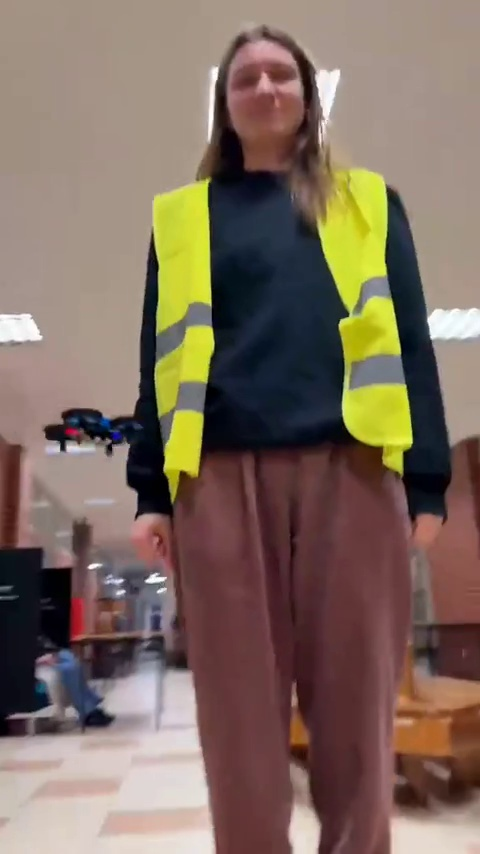drone: (38, 405, 153, 446)
vest: (134, 67, 453, 845)
